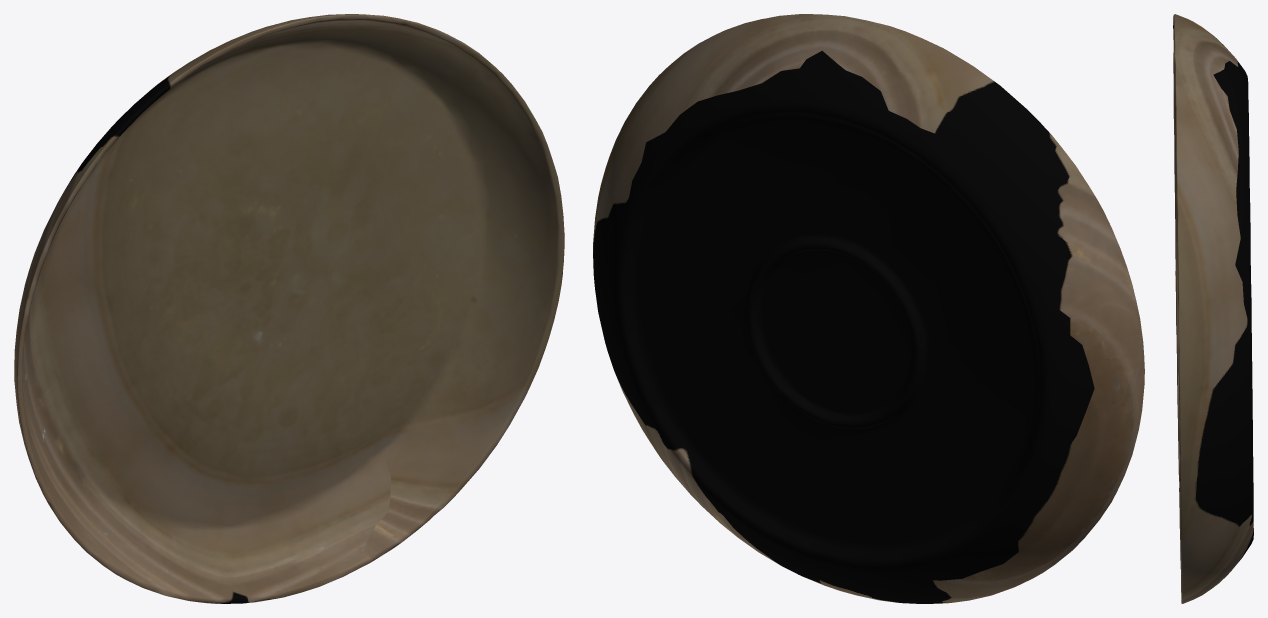
3 renders of one model, left to right at view 1: azimuth 30°, elevation 25°; view 2: azimuth 150°, elevation 25°; view 3: azimuth 270°, elevation 25°, orthographic. The views are drawn at different scales.
Bounding box in the file's own units: 0.2417 × 0.2419 × 0.0332.
